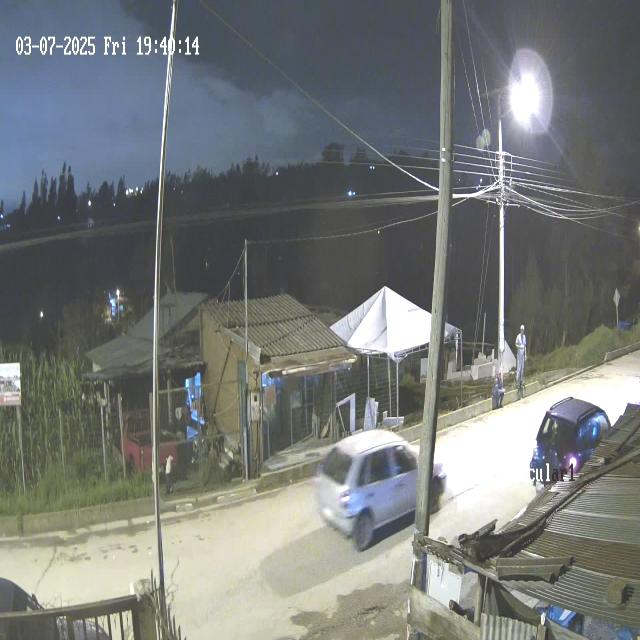SED: (311, 430, 444, 542)
